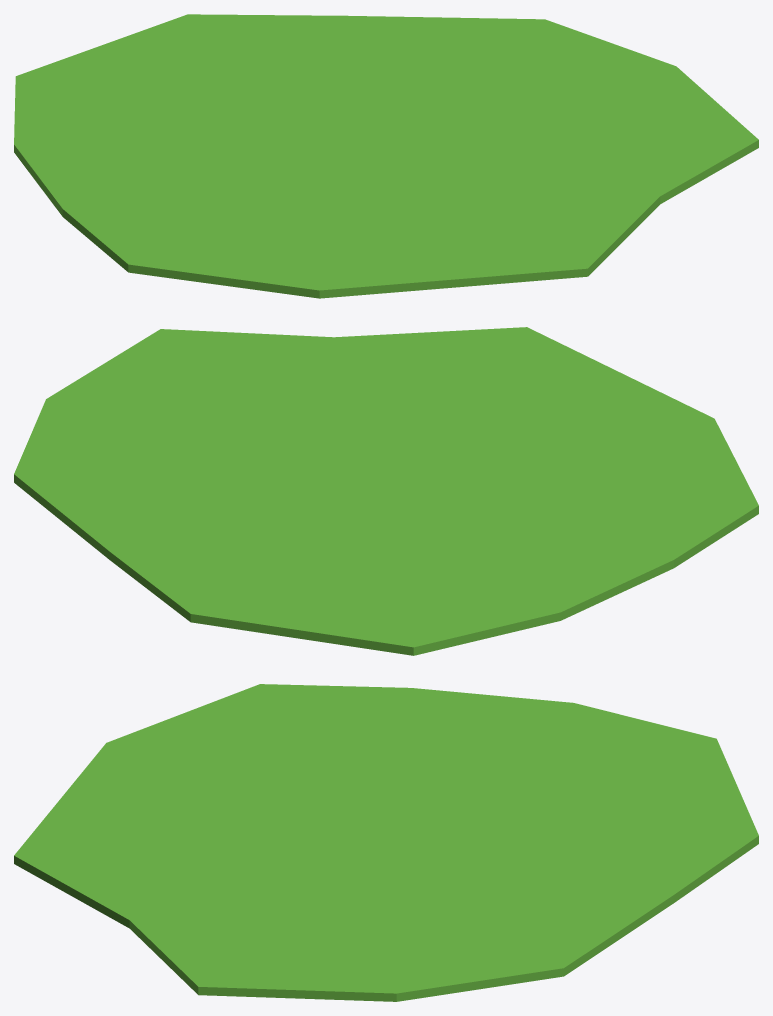
The picture shows the model from 3 angles, top to bottom: view 1: azimuth 30°, elevation 25°; view 2: azimuth 150°, elevation 25°; view 3: azimuth 270°, elevation 25°; orthographic projection. The views are drawn at different scales.
Parts seen in each view (by area): view 1: Patch; view 2: Patch; view 3: Patch.
Part boxes in pixels (<box>): Patch: <box>14,14,758,298</box>; Patch: <box>14,327,758,655</box>; Patch: <box>14,684,758,1001</box>.
Bounding box in the file's own units: 9.53 × 0.12 × 9.7.
